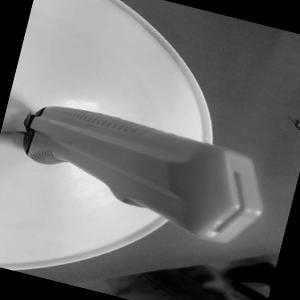estilete: (0, 89, 277, 251)
